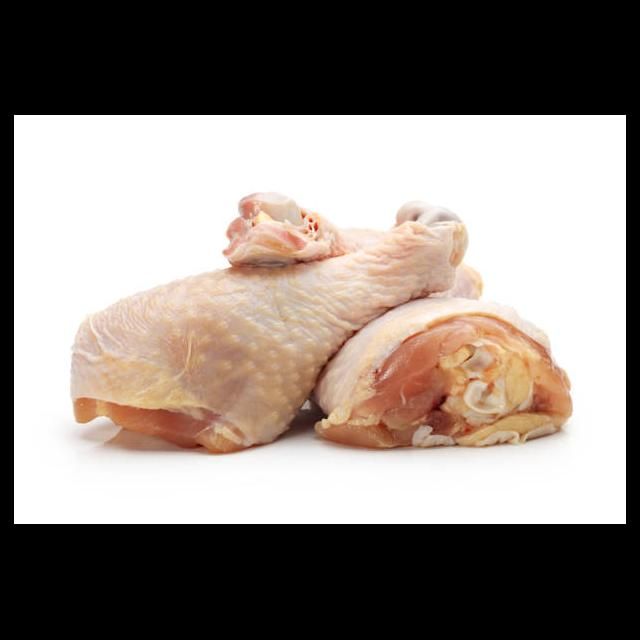chicken: (68, 218, 468, 458), (224, 192, 574, 454)
